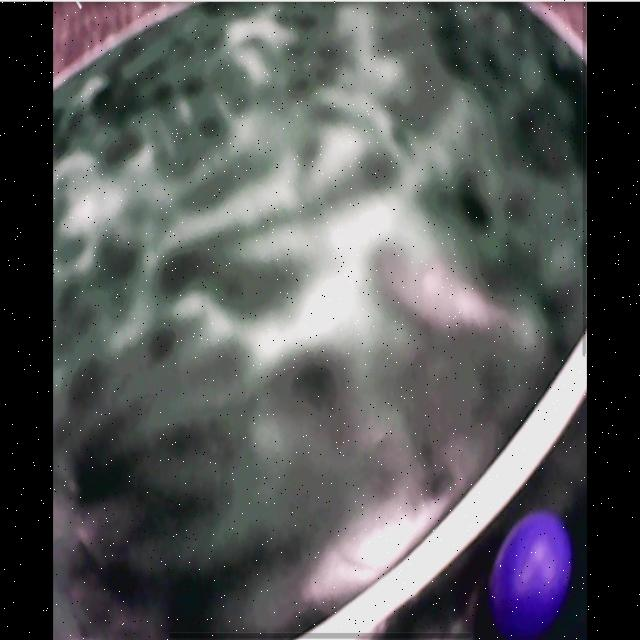ball: (496, 514, 572, 634)
